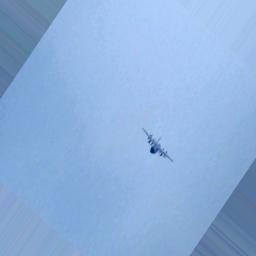Airplane: (141, 125, 176, 162)
